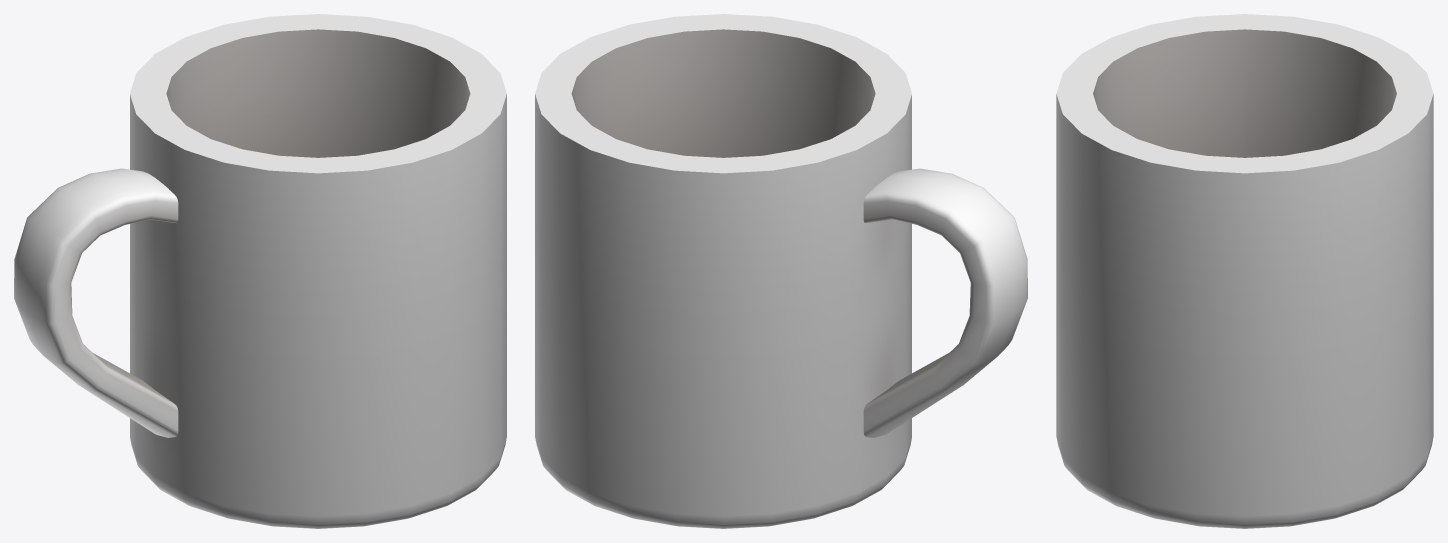
Rendered from cup.FBX.
The picture shows the model from 3 angles, left to right: view 1: azimuth 30°, elevation 25°; view 2: azimuth 150°, elevation 25°; view 3: azimuth 270°, elevation 25°; orthographic projection.
Parts seen in each view (by area): view 1: cup; view 2: cup; view 3: cup.
Part boxes in pixels (x1,y1,x2,y2): cup: [14, 14, 506, 528]; cup: [535, 14, 1027, 528]; cup: [1056, 14, 1433, 528].
Size of the model in its own units: 32.96 by 25.17 by 23.71.
